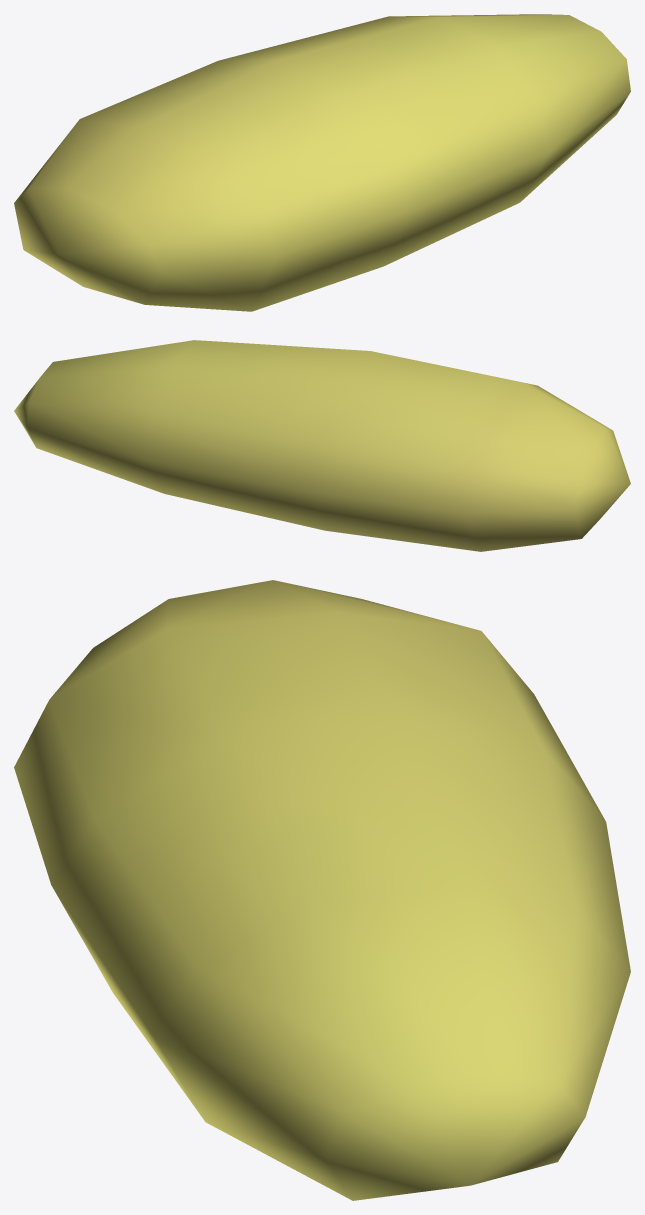
Rendered from PC_Man_Eyebrow008_R.glb.
The picture shows the model from 3 angles, top to bottom: view 1: azimuth 30°, elevation 25°; view 2: azimuth 150°, elevation 25°; view 3: azimuth 270°, elevation 25°; orthographic projection. The views are drawn at different scales.
Visible parts, largest first — view 1: PC_Man_Eyebrow008_R_mesh; view 2: PC_Man_Eyebrow008_R_mesh; view 3: PC_Man_Eyebrow008_R_mesh.
Part boxes in pixels (x1,y1,x2,y2): PC_Man_Eyebrow008_R_mesh: (14,14,630,311); PC_Man_Eyebrow008_R_mesh: (14,340,630,551); PC_Man_Eyebrow008_R_mesh: (14,580,630,1200).
Bounding box in the file's own units: 0.1433 × 0.0329 × 0.0716.
1 material, 1 textured.
